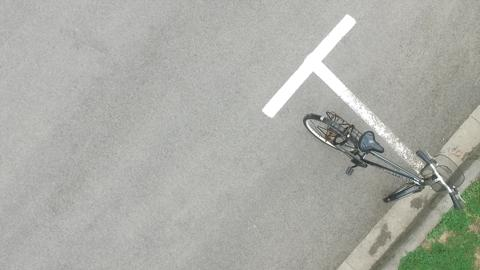bike: (288, 107, 473, 215)
